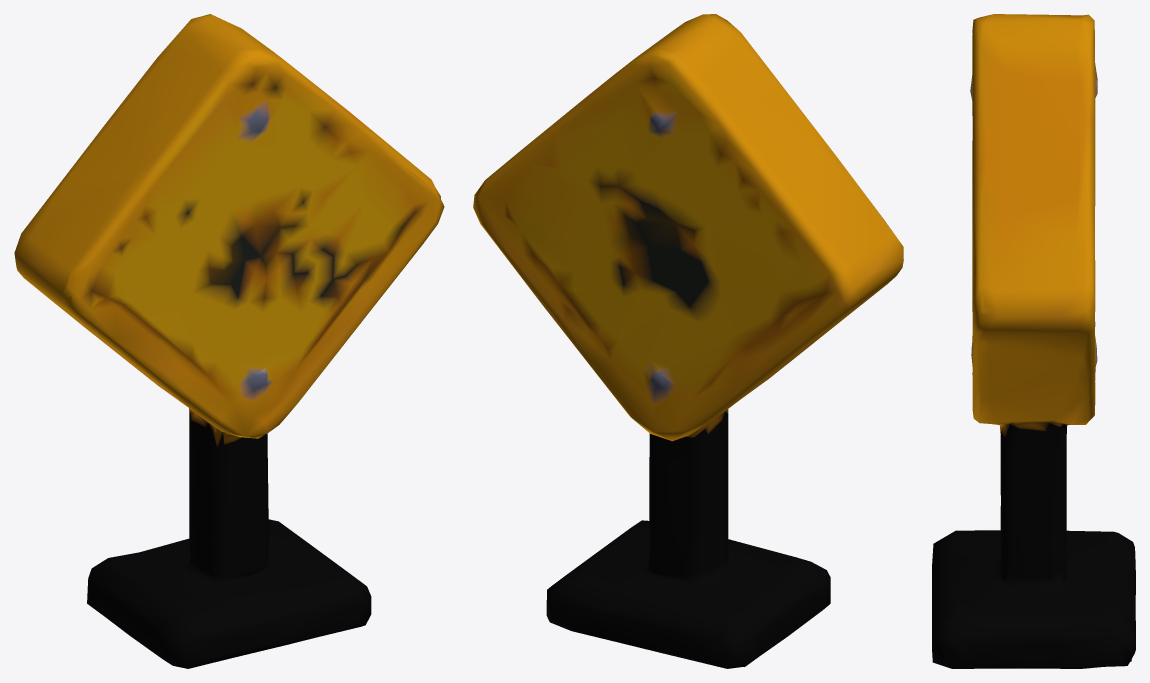
File: gen3d-kangaroo-sign-lod0.glb
3 views of the same model, side by side, from view 1: azimuth 30°, elevation 25°; view 2: azimuth 150°, elevation 25°; view 3: azimuth 270°, elevation 25° (orthographic). The views are drawn at different scales.
Visible parts, largest first — view 1: part_0; view 2: part_0; view 3: part_0.
Boxes of the visible parts, left/top/right/bottom form: part_0: left=14, top=14, right=444, bottom=668; part_0: left=473, top=14, right=903, bottom=668; part_0: left=932, top=14, right=1135, bottom=668.
Size of the model in its own units: 0.6876 by 0.9981 by 0.3065.
